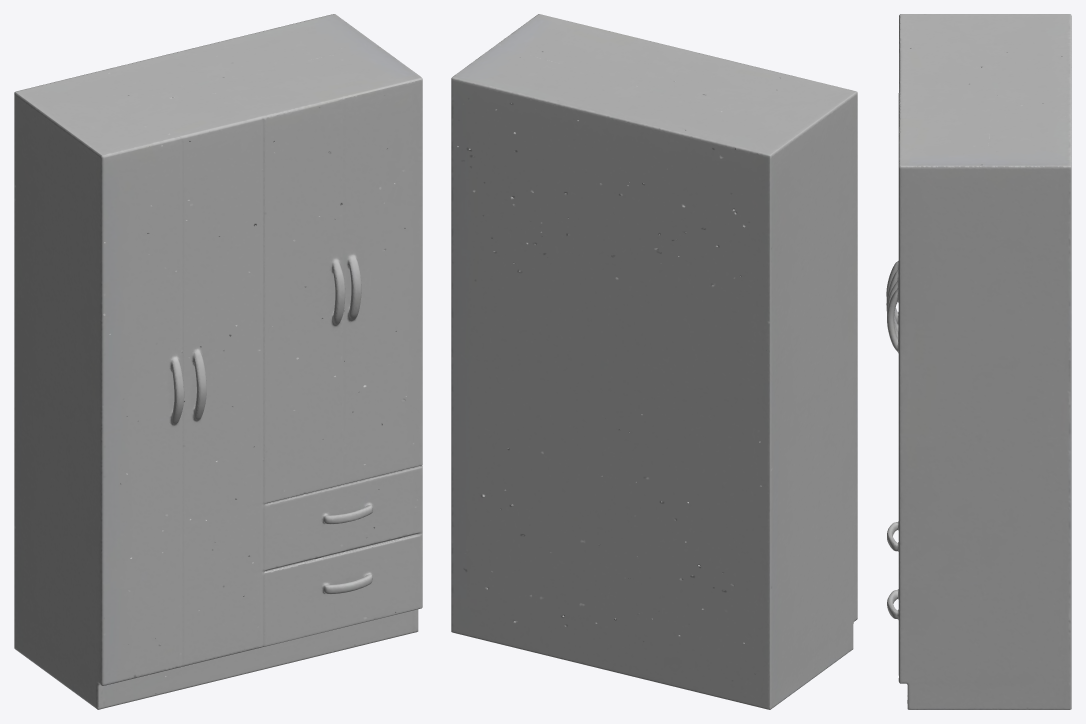
File: ropero-propuesta.glb
3 renders of one model, left to right at view 1: azimuth 30°, elevation 25°; view 2: azimuth 150°, elevation 25°; view 3: azimuth 270°, elevation 25°, orthographic. The views are drawn at different scales.
Parts seen in each view (by area): view 1: tripo_node_31786306-49fa-4c65-9e4e-7c637f6f180a; view 2: tripo_node_31786306-49fa-4c65-9e4e-7c637f6f180a; view 3: tripo_node_31786306-49fa-4c65-9e4e-7c637f6f180a.
Boxes of the visible parts, left/top/right/bottom form: tripo_node_31786306-49fa-4c65-9e4e-7c637f6f180a: left=14, top=14, right=422, bottom=709; tripo_node_31786306-49fa-4c65-9e4e-7c637f6f180a: left=451, top=14, right=857, bottom=709; tripo_node_31786306-49fa-4c65-9e4e-7c637f6f180a: left=886, top=14, right=1071, bottom=709.
Bounding box in the file's own units: 0.6028 × 1 × 0.3085.
Materials: 1 (1 with a texture image).
